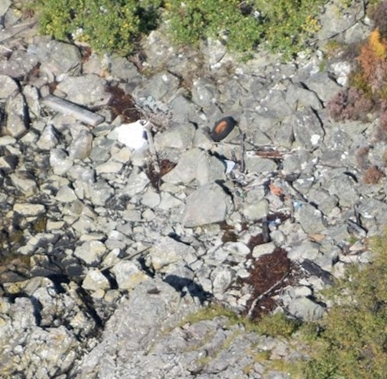straight_bar: (36, 87, 107, 132), (140, 121, 166, 176)
together_barrel: (254, 146, 306, 260)
white_in_green: (92, 99, 174, 170), (190, 95, 258, 161)
